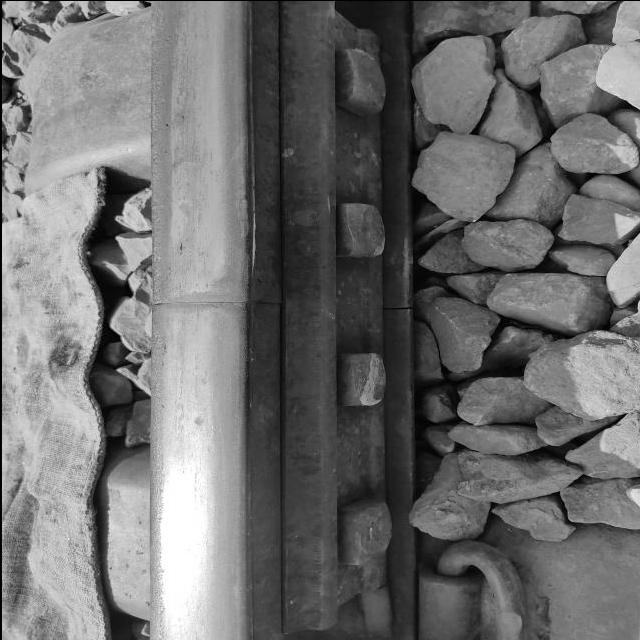broken_rail_medium: (191, 415, 203, 425), (175, 241, 187, 249), (178, 114, 184, 118), (163, 122, 167, 126)
